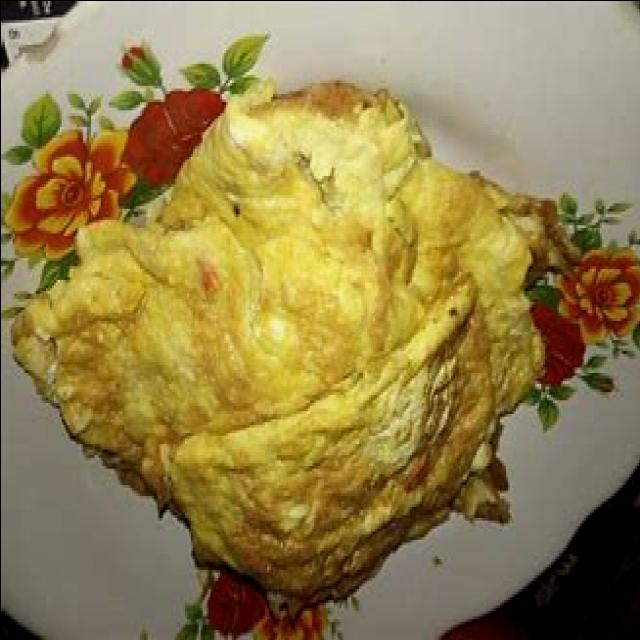telur dadar: (10, 77, 546, 613)
